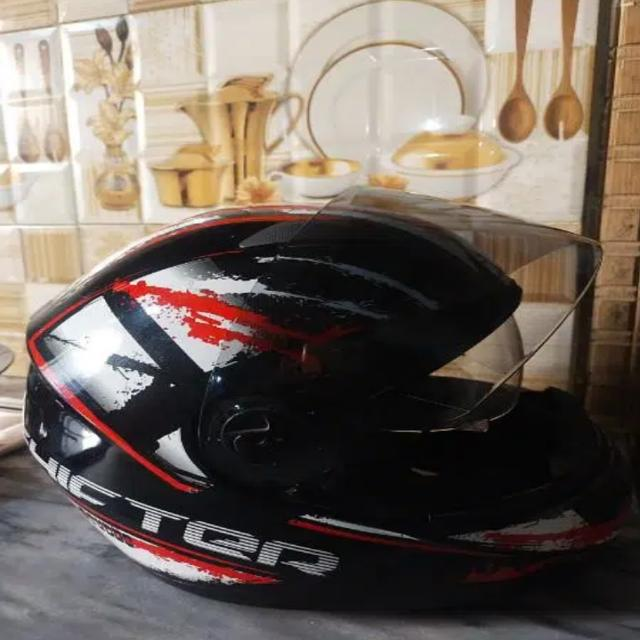Helmet: (0, 205, 640, 633)
